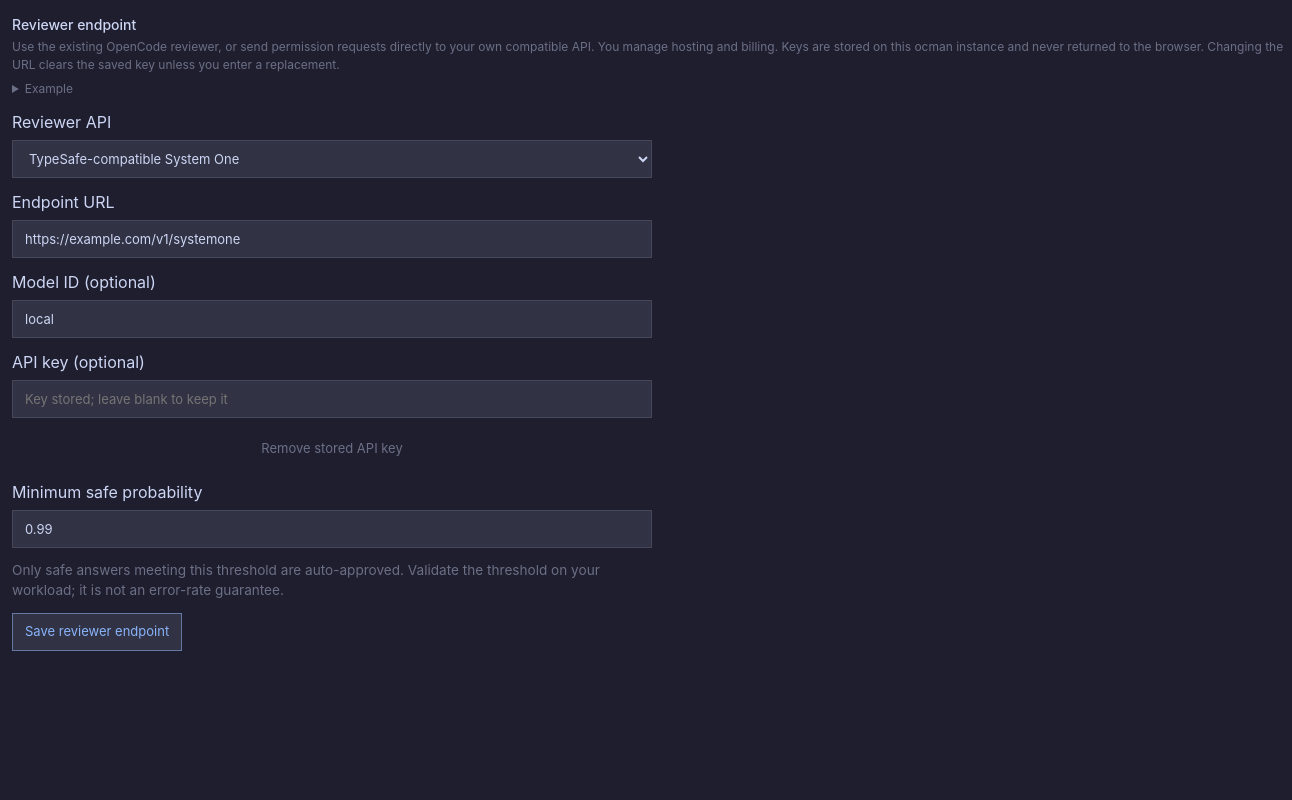
Test case: custom reviewer endpoint › shows save errors and retains the entered key for retry
Type "replacement" into the password field labelled "API key (optional)".
click(332, 399); type("replacement")  # box left=12, top=380, right=652, bottom=418
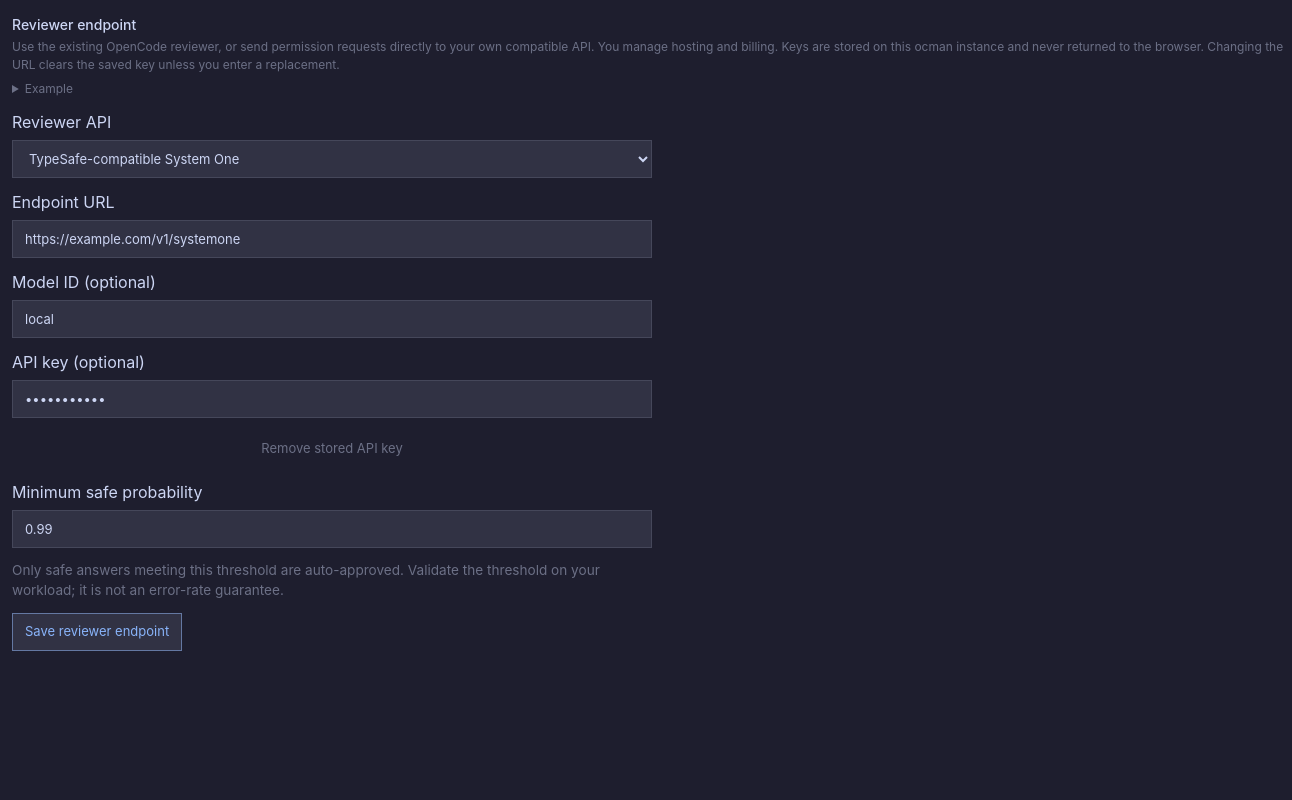
Click the button "Save reviewer endpoint".
click(97, 632)  # box left=12, top=613, right=182, bottom=651
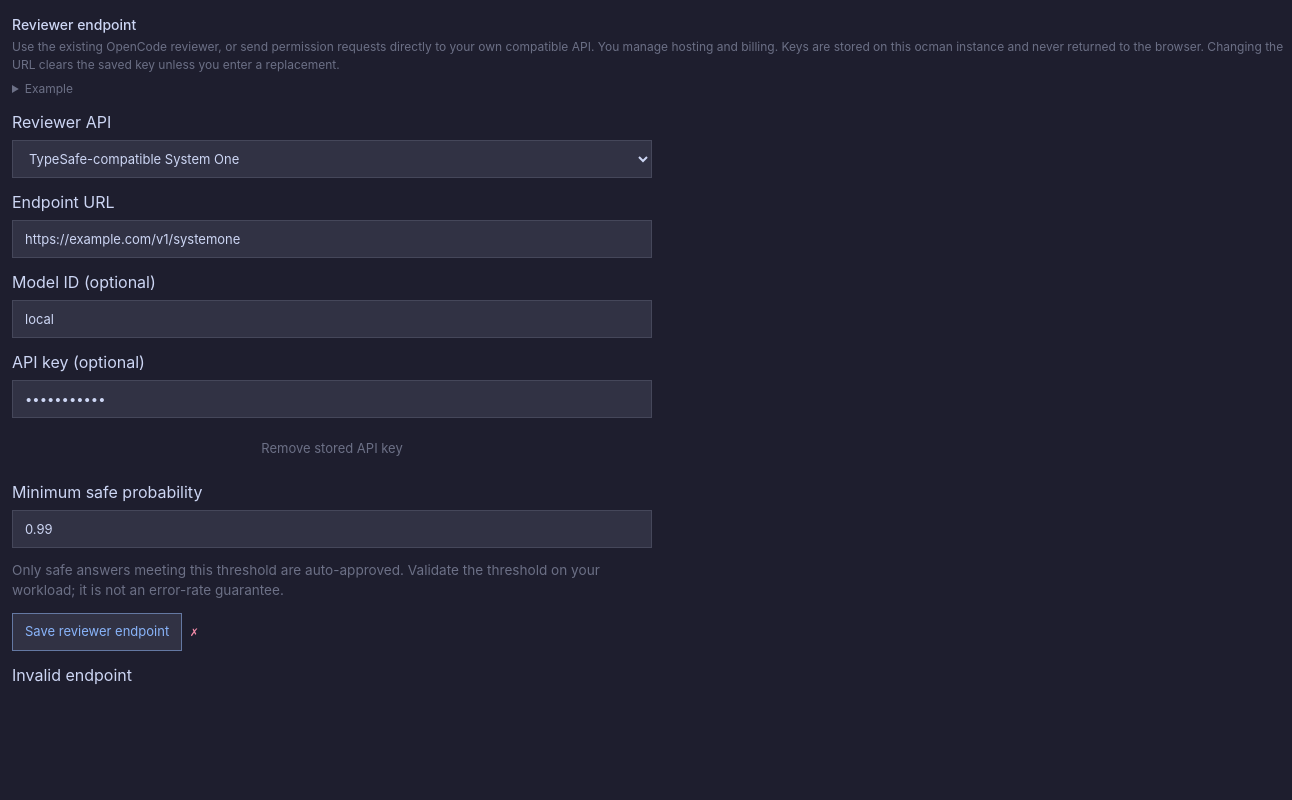
Result: the message reads "Invalid endpoint" at left=12, top=665, right=132, bottom=685
